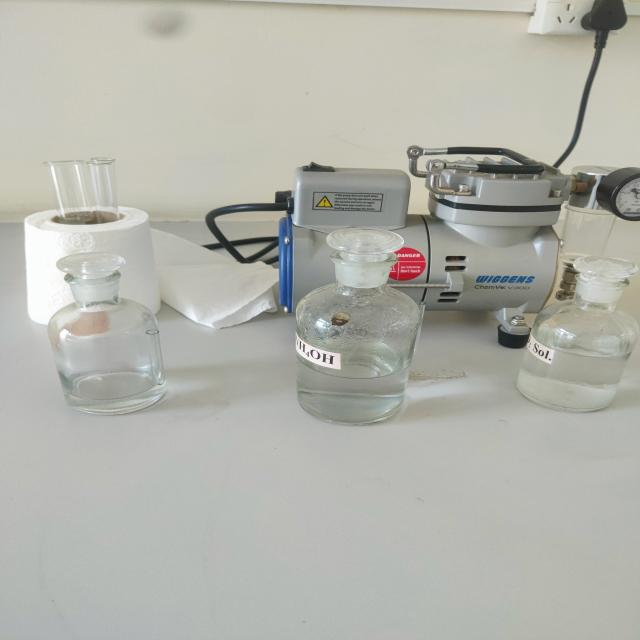Reagent_Bottle: (259, 216, 459, 448), (24, 232, 191, 422), (497, 242, 640, 423)
